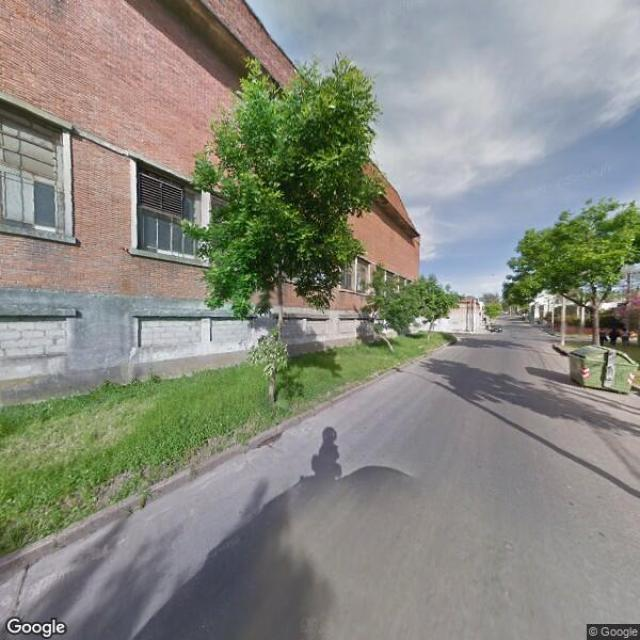garbage container: (560, 336, 640, 404)
